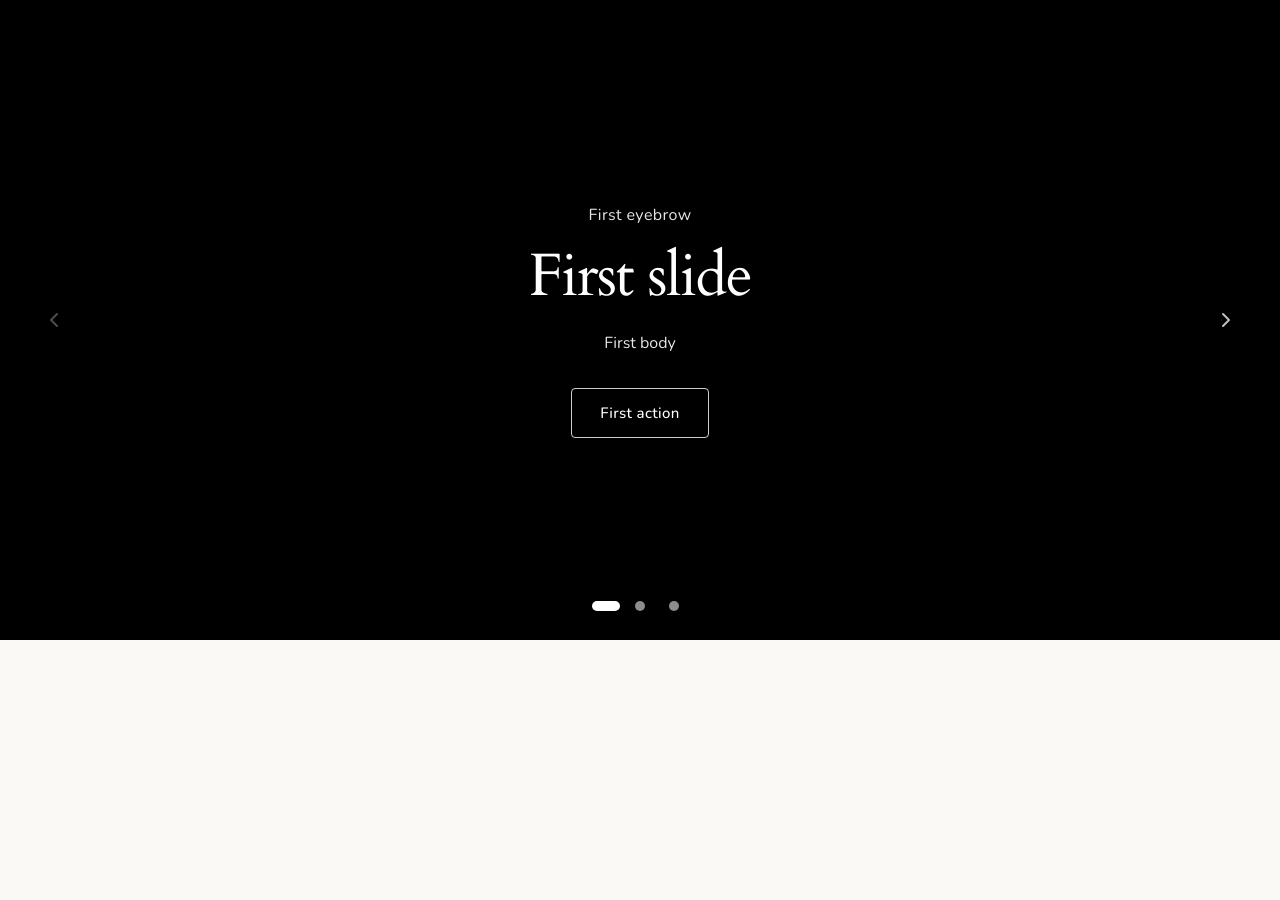
Scenario: HeroCarousel › moves between slides with the arrow keys
Click the 2nd button named "Next slide": click(1226, 320) top-left (1204, 298), bottom-right (1248, 342)
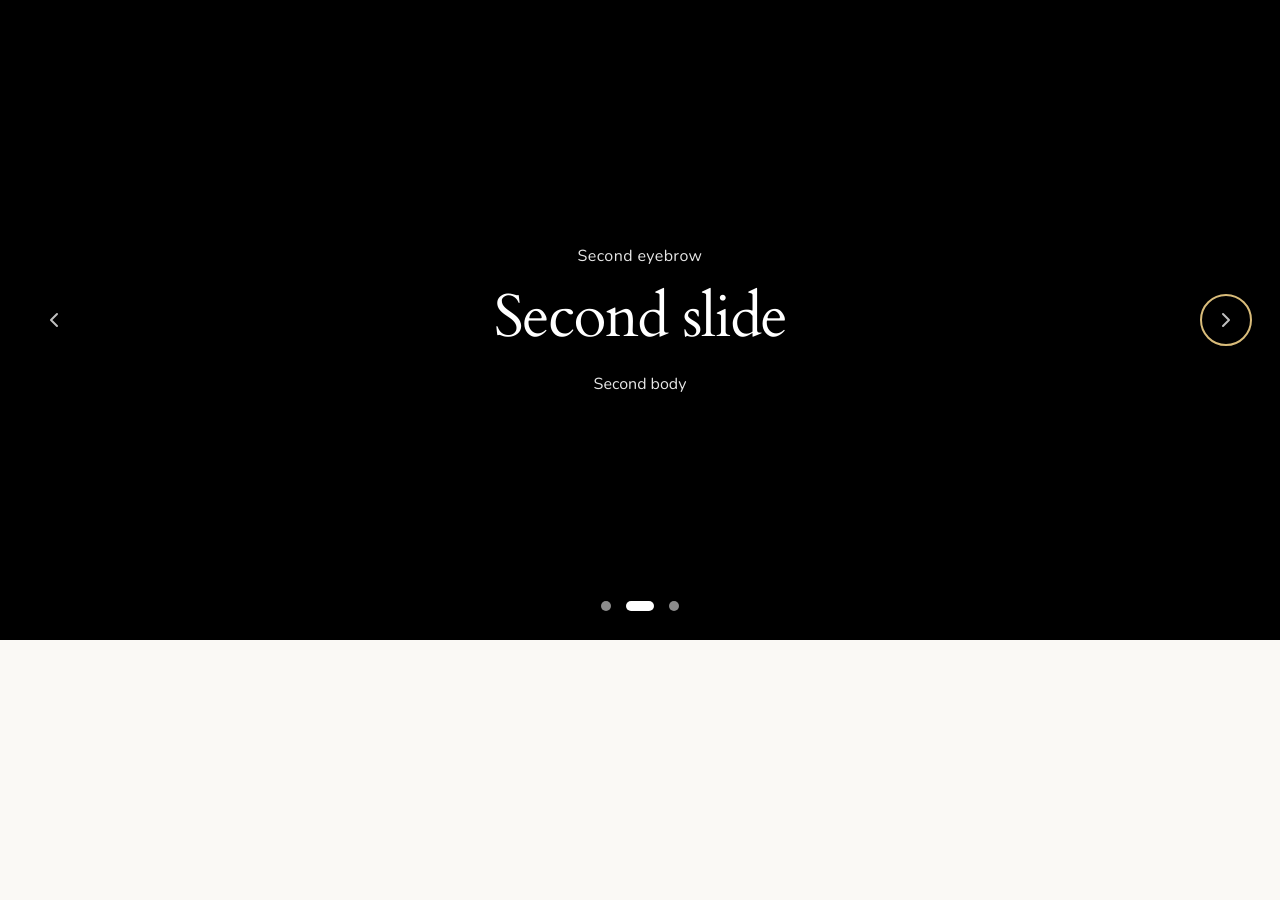
Expected: the text "Second slide" is shown, top-left (494, 280), bottom-right (786, 354)
Press Arrowleft
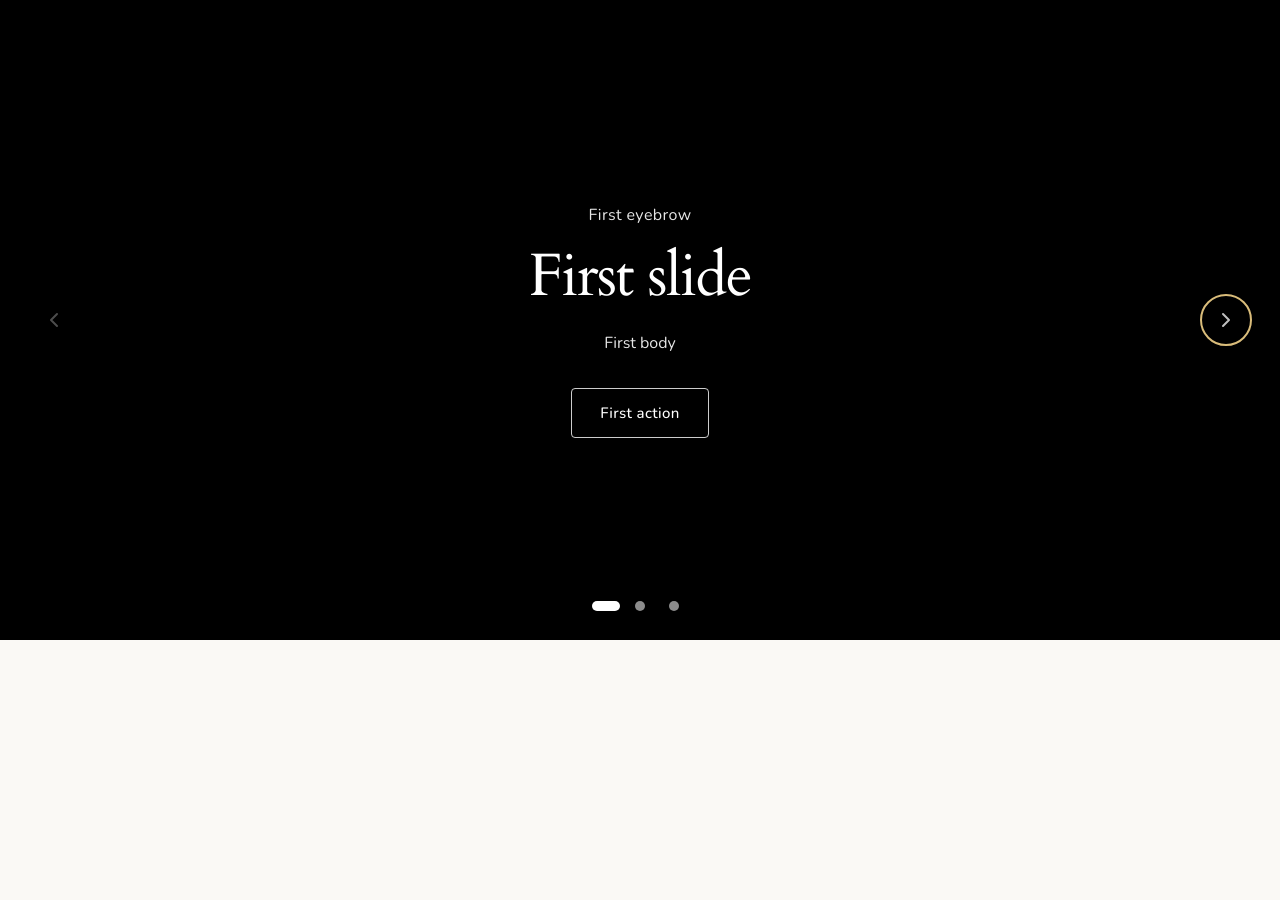
Expected: the heading "First slide" is shown, top-left (528, 238), bottom-right (752, 314)
